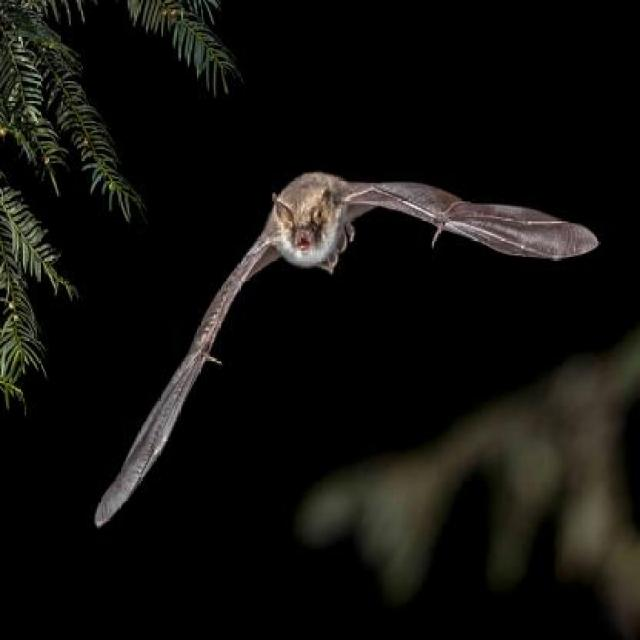Bat: (86, 168, 605, 547)
